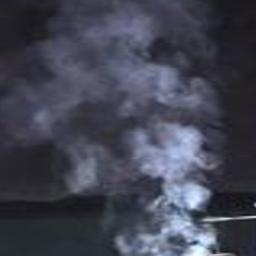smoke: (0, 0, 223, 255)
